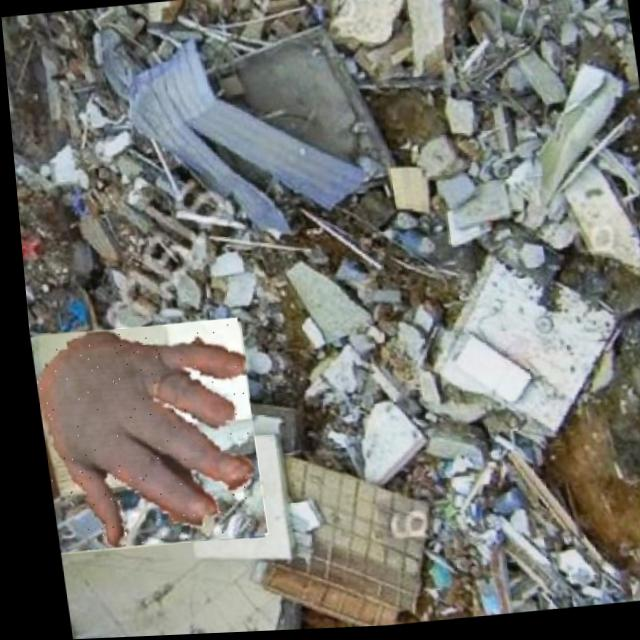Person in Rubble: (23, 317, 259, 554)
